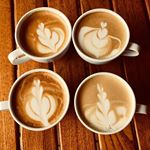cups: (73, 69, 150, 138), (1, 66, 70, 133), (71, 6, 143, 66), (5, 5, 72, 67)
